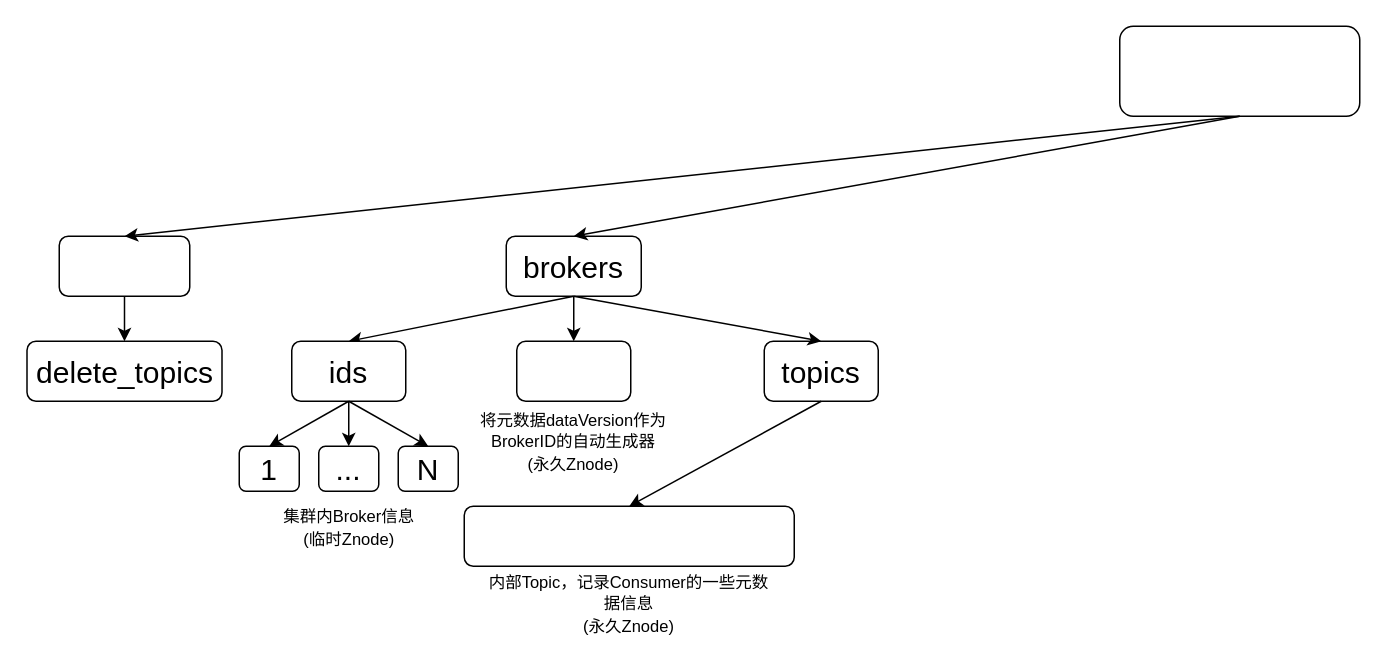
This 1386x668 diagram has some shape labels left out. The centre of each missing label's shape, as x and y in pixels:
__consumer__offsets: the point at 628,535
admin: the point at 124,265
seqid: the point at 573,370
ZooKeeper: the point at 1239,70
